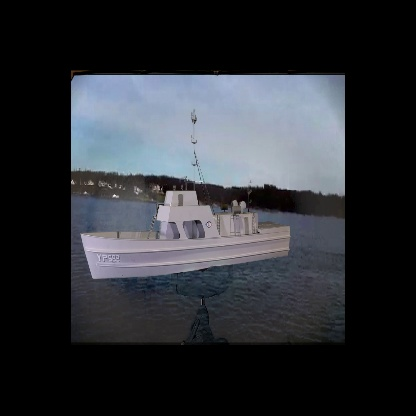YP689: (79, 104, 294, 281)
